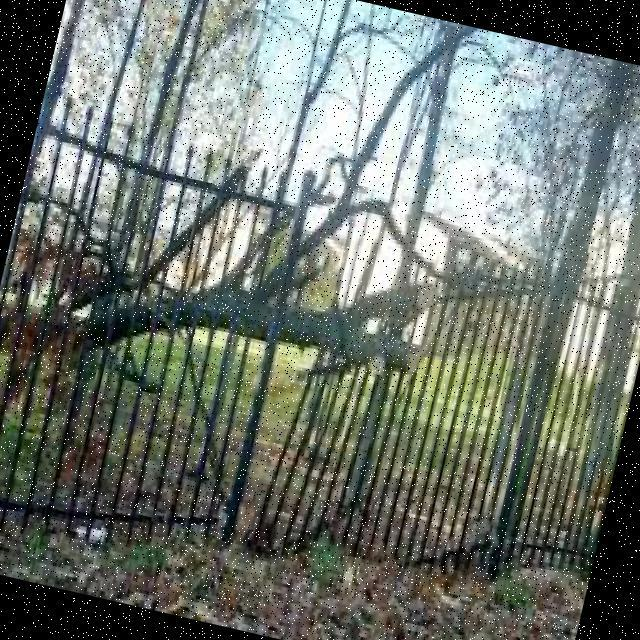fence line: (199, 169, 501, 584), (200, 174, 492, 564)
